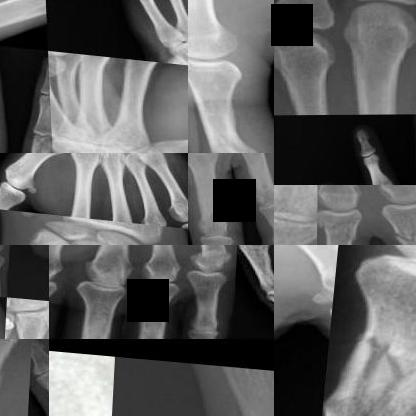fracture: (336, 311, 415, 415), (318, 207, 367, 244), (188, 245, 240, 274), (381, 217, 415, 244), (47, 50, 64, 83), (6, 311, 26, 338), (110, 153, 125, 165)
